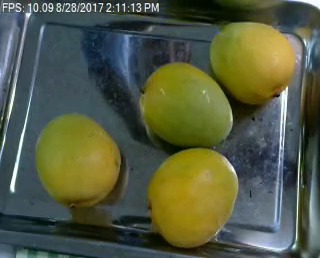Mango: (148, 147, 240, 247), (35, 114, 121, 208), (141, 63, 232, 143), (209, 20, 294, 98)
